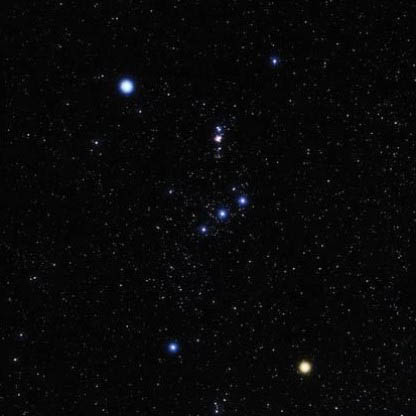Orion: (110, 67, 152, 111), (291, 350, 316, 384), (165, 333, 193, 361), (263, 51, 291, 76), (212, 199, 229, 237), (188, 216, 208, 245), (233, 192, 256, 214)
